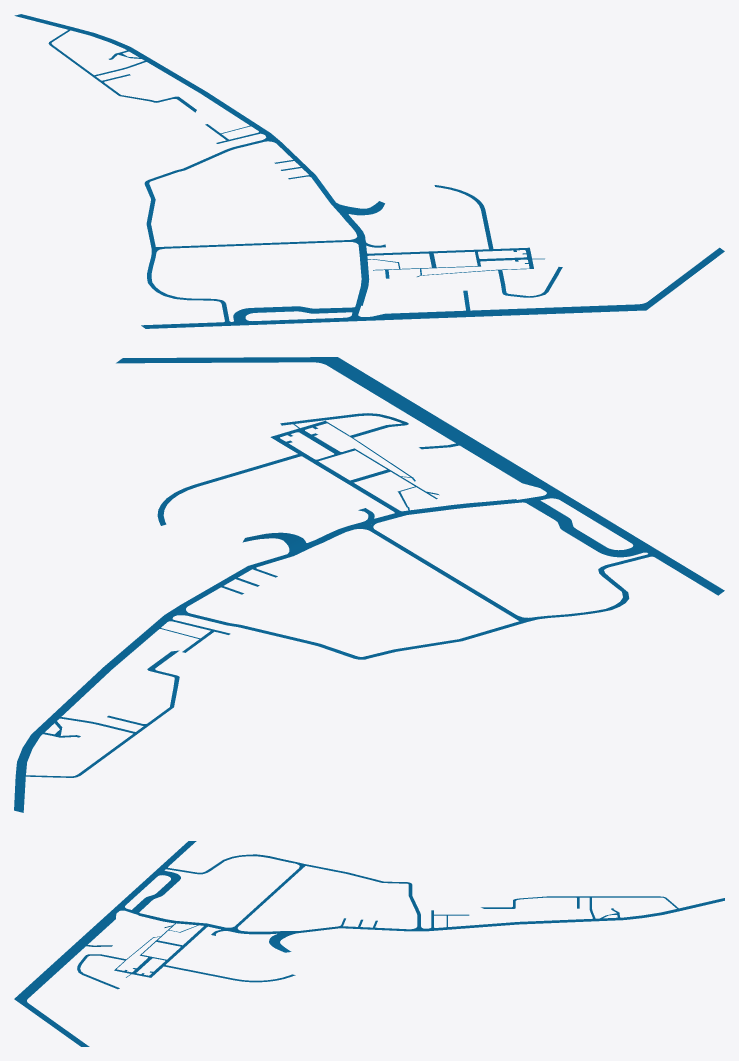
Rendered from road11.glb.
3 renders of one model, top to bottom at view 1: azimuth 30°, elevation 25°; view 2: azimuth 150°, elevation 25°; view 3: azimuth 270°, elevation 25°, orthographic. The views are drawn at different scales.
Visible parts, largest first — view 1: 道路; view 2: 道路; view 3: 道路.
Part boxes in pixels (x1,y1,x2,y2): 道路: (14,14,724,328); 道路: (14,357,724,812); 道路: (14,841,724,1046).
Size of the model in its own units: 781 by 44.04 by 1140.
